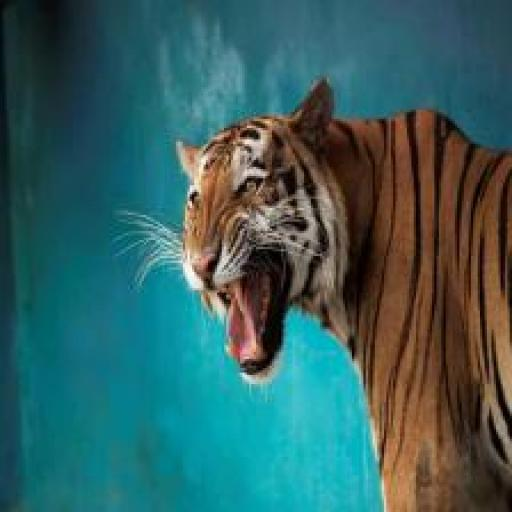Tiger: (122, 78, 512, 511)
